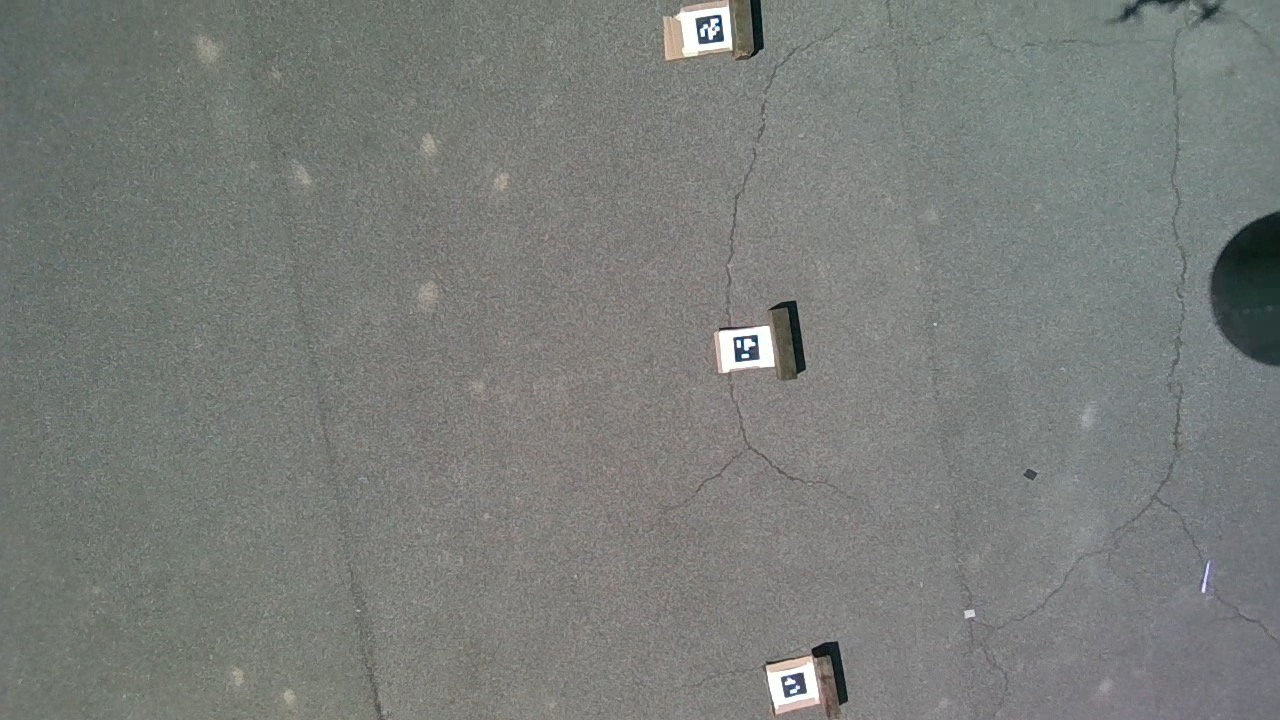probes: (1200, 560, 1211, 593)
